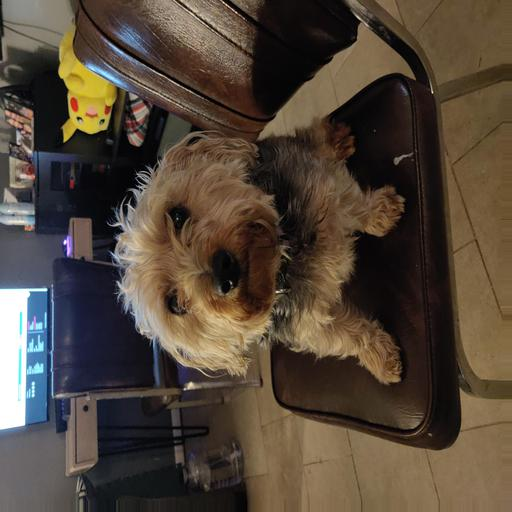dog: (100, 124, 347, 371)
